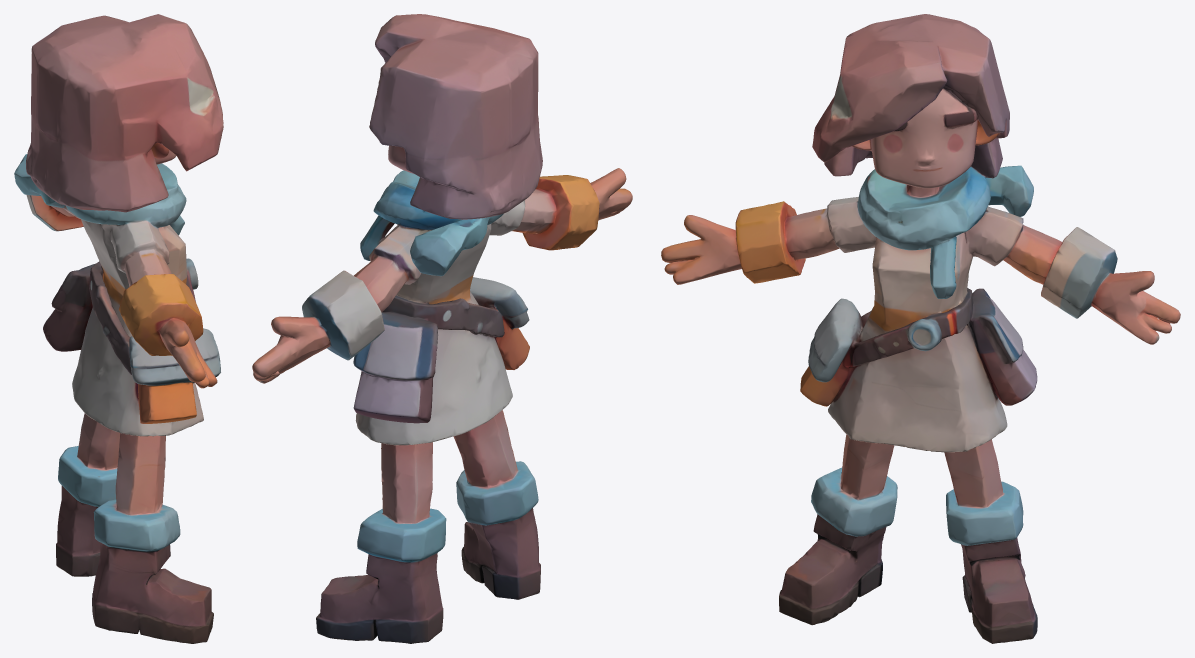
File: hero_ila_3d.r2.glb
3 views of the same model, side by side, from view 1: azimuth 30°, elevation 25°; view 2: azimuth 150°, elevation 25°; view 3: azimuth 270°, elevation 25° (orthographic). The views are drawn at different scales.
Visible parts, largest first — view 1: tripo_node_5eef5aba-01c9-4be0-81c8-ae55efb51748; view 2: tripo_node_5eef5aba-01c9-4be0-81c8-ae55efb51748; view 3: tripo_node_5eef5aba-01c9-4be0-81c8-ae55efb51748.
Part boxes in pixels (<box>): tripo_node_5eef5aba-01c9-4be0-81c8-ae55efb51748: <box>14,14,223,643</box>; tripo_node_5eef5aba-01c9-4be0-81c8-ae55efb51748: <box>252,14,632,643</box>; tripo_node_5eef5aba-01c9-4be0-81c8-ae55efb51748: <box>661,14,1180,643</box>.
Bounding box in the file's own units: 0.2835 × 1 × 0.8203.
Materials: 1 (1 with a texture image).
